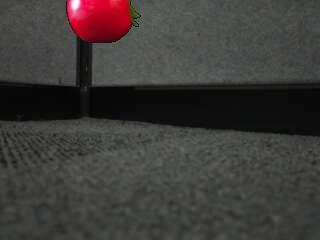Tomato: (66, 0, 140, 44)
